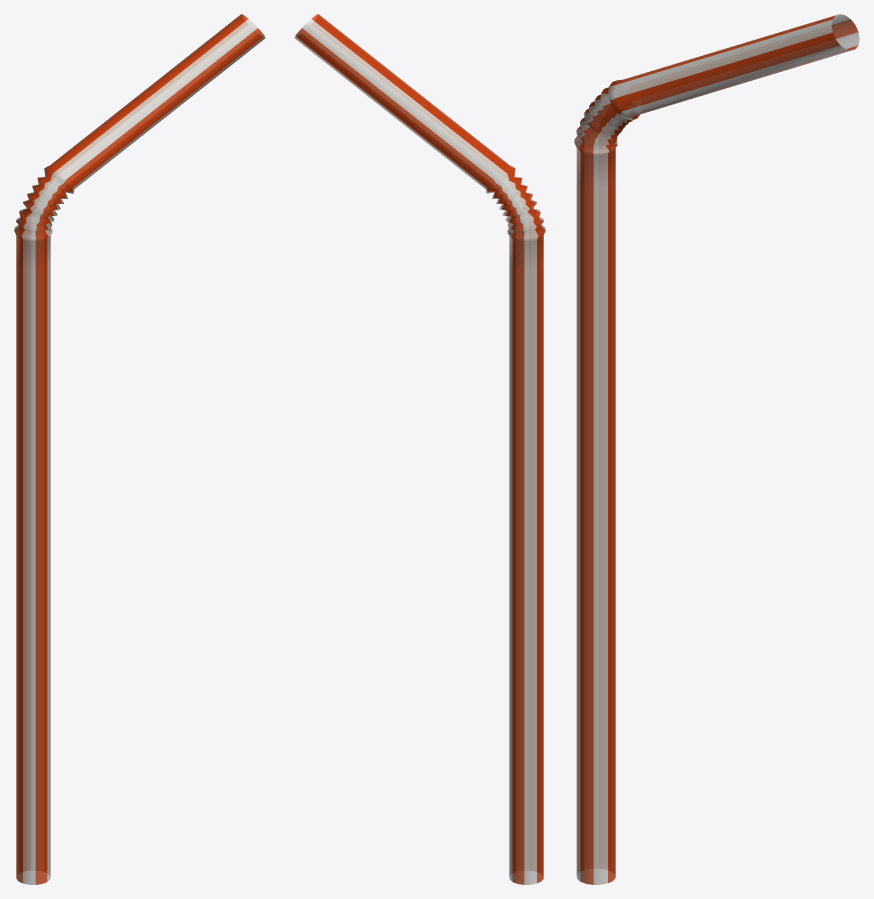
File: straw.fbx
3 renders of one model, left to right at view 1: azimuth 30°, elevation 25°; view 2: azimuth 150°, elevation 25°; view 3: azimuth 330°, elevation 25°, orthographic. The views are drawn at different scales.
Visible parts, largest first — view 1: Cylinder; view 2: Cylinder; view 3: Cylinder.
Boxes of the visible parts, left/top/right/bottom form: Cylinder: left=14, top=14, right=265, bottom=884; Cylinder: left=294, top=14, right=545, bottom=884; Cylinder: left=574, top=14, right=859, bottom=884.
Size of the model in its own units: 0.2422 by 0.7639 by 0.0335.
